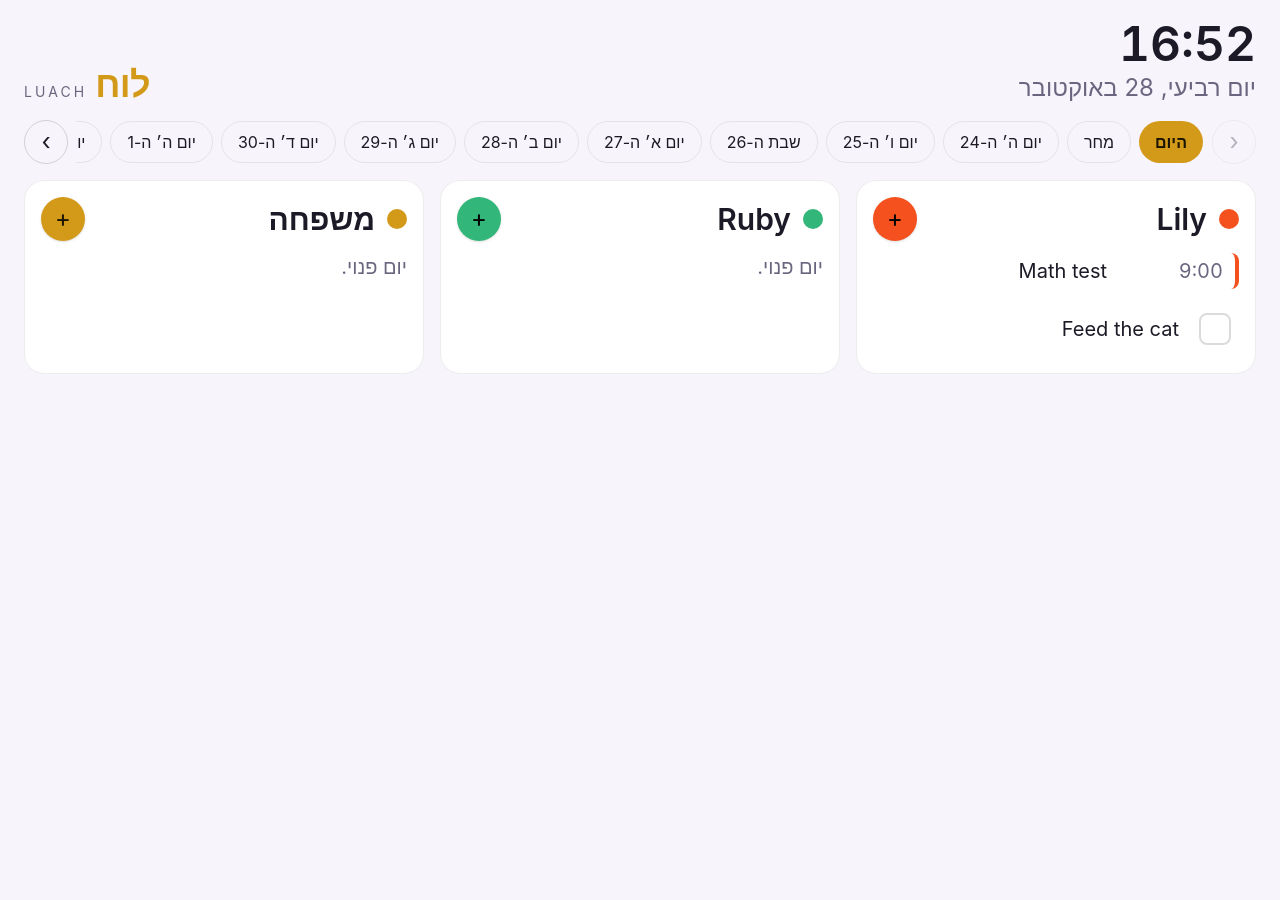
Test: holding a card on the board › on a Hebrew board, right to left, it lands on the column under the finger
The image size is (1280, 900).
Expected: the element "Ruby" is shown, [440,180,840,374]
Press the mouse on the list item "Feed the cat": (1056, 329) [873,301,1239,357]
Wait 460 ms
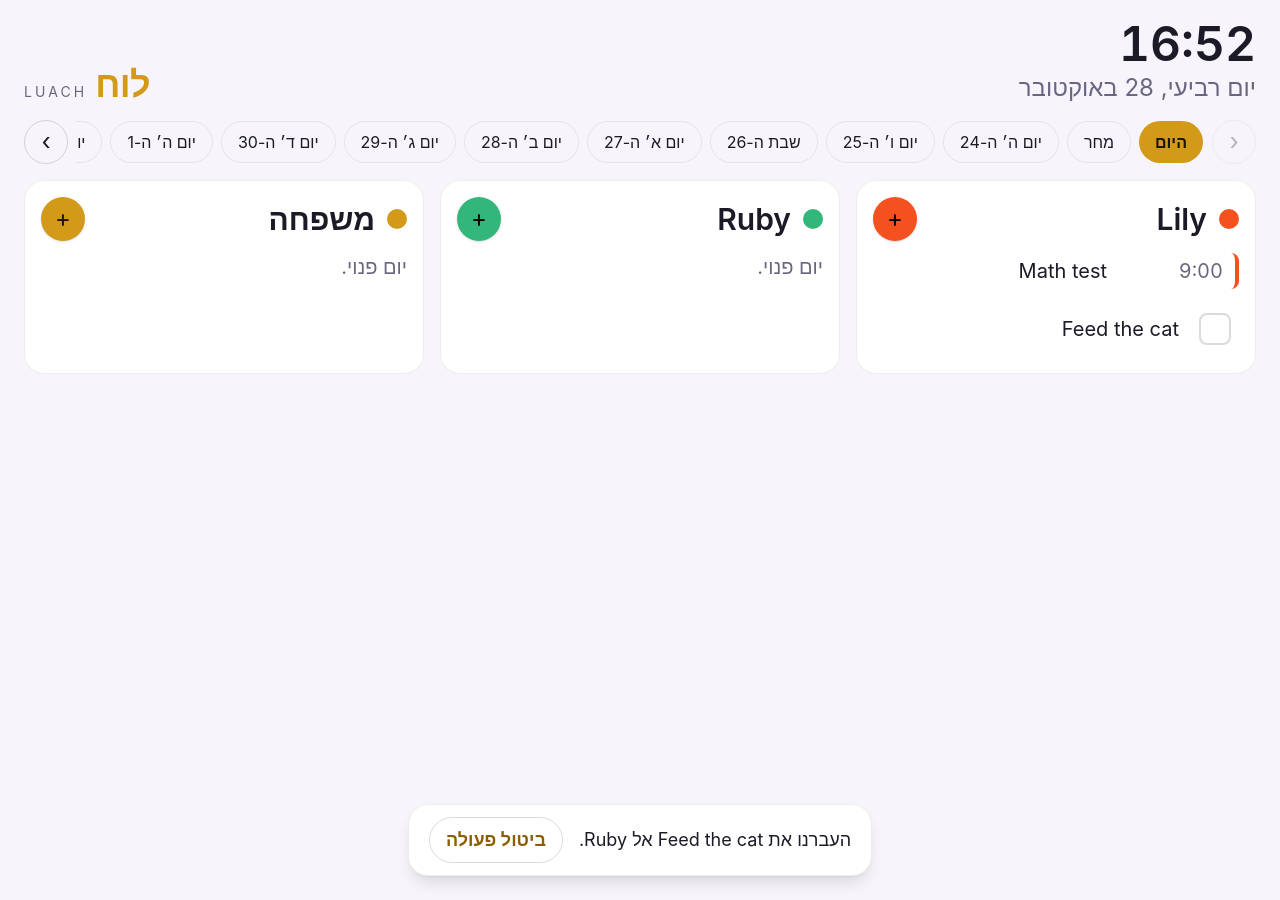
Result: the text "העברנו את Feed the cat אל Ruby." is shown at [579,826,851,854]
Result: the button "ביטול פעולה" is shown at [429,817,563,863]
